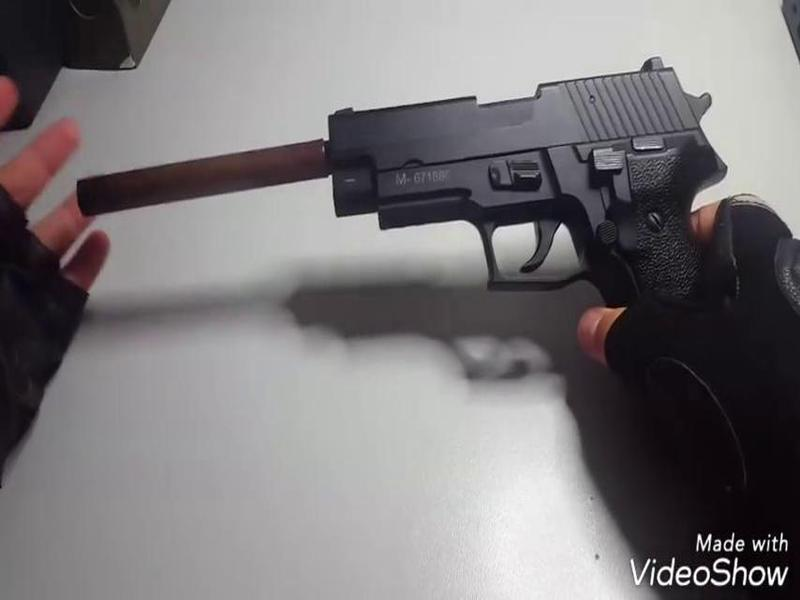Pistola: (327, 39, 750, 357)
